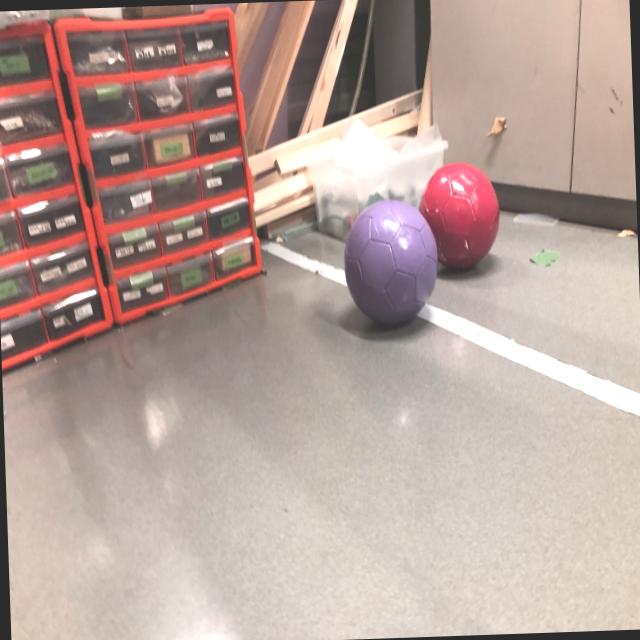purple_ball: (342, 200, 442, 326)
red_ball: (418, 161, 503, 271)
